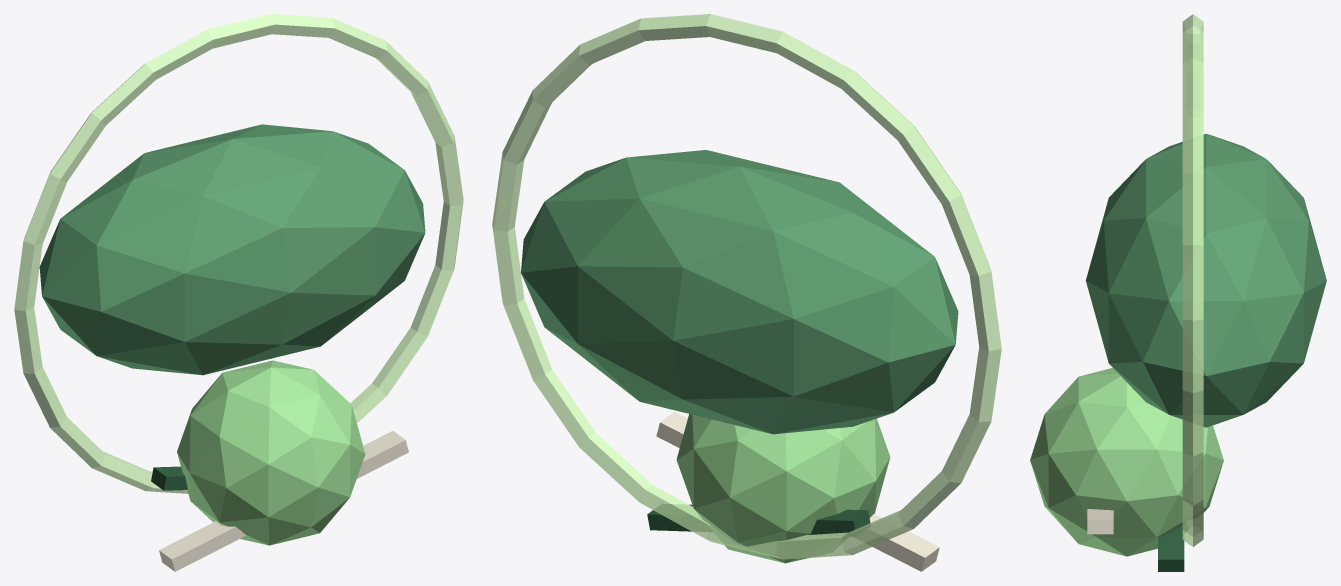
File: 02_random_skin_projector.glb
The picture shows the model from 3 angles, left to right: view 1: azimuth 30°, elevation 25°; view 2: azimuth 150°, elevation 25°; view 3: azimuth 270°, elevation 25°; orthographic projection. The views are drawn at different scales.
Parts seen in each view (by area): view 1: skin_preview_body, skin_preview_head, skin_shuffle_ring, pattern_stripe_a, pattern_stripe_b; view 2: skin_preview_body, skin_shuffle_ring, skin_preview_head, pattern_stripe_a, pattern_stripe_b; view 3: skin_preview_body, skin_preview_head, skin_shuffle_ring, pattern_stripe_b, pattern_stripe_a.
Boxes of the visible parts, x1,y1,x2,y2 form: skin_preview_body: (39,124,425,375); skin_preview_head: (177,360,365,545); skin_shuffle_ring: (14,14,463,493); pattern_stripe_a: (159,431,408,571); pattern_stripe_b: (151,466,187,490); skin_preview_body: (521,150,958,434); skin_shuffle_ring: (492,14,1001,559); skin_preview_head: (676,414,890,563); pattern_stripe_a: (656,411,939,571); pattern_stripe_b: (647,504,870,535); skin_preview_body: (1085,133,1326,427); skin_preview_head: (1030,368,1223,556); skin_shuffle_ring: (1182,14,1203,546); pattern_stripe_b: (1158,526,1184,571); pattern_stripe_a: (1087,509,1113,534).
Size of the model in its own units: 1.21 by 1.27 by 0.6736.
